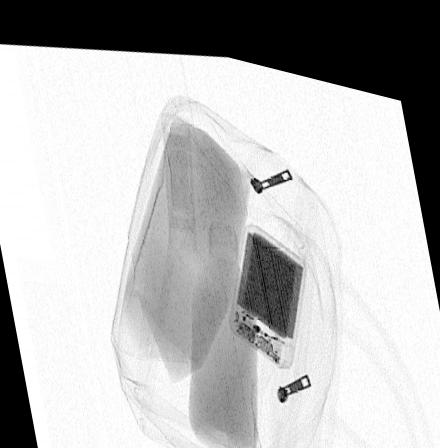Powerbank: (228, 207, 307, 355)
